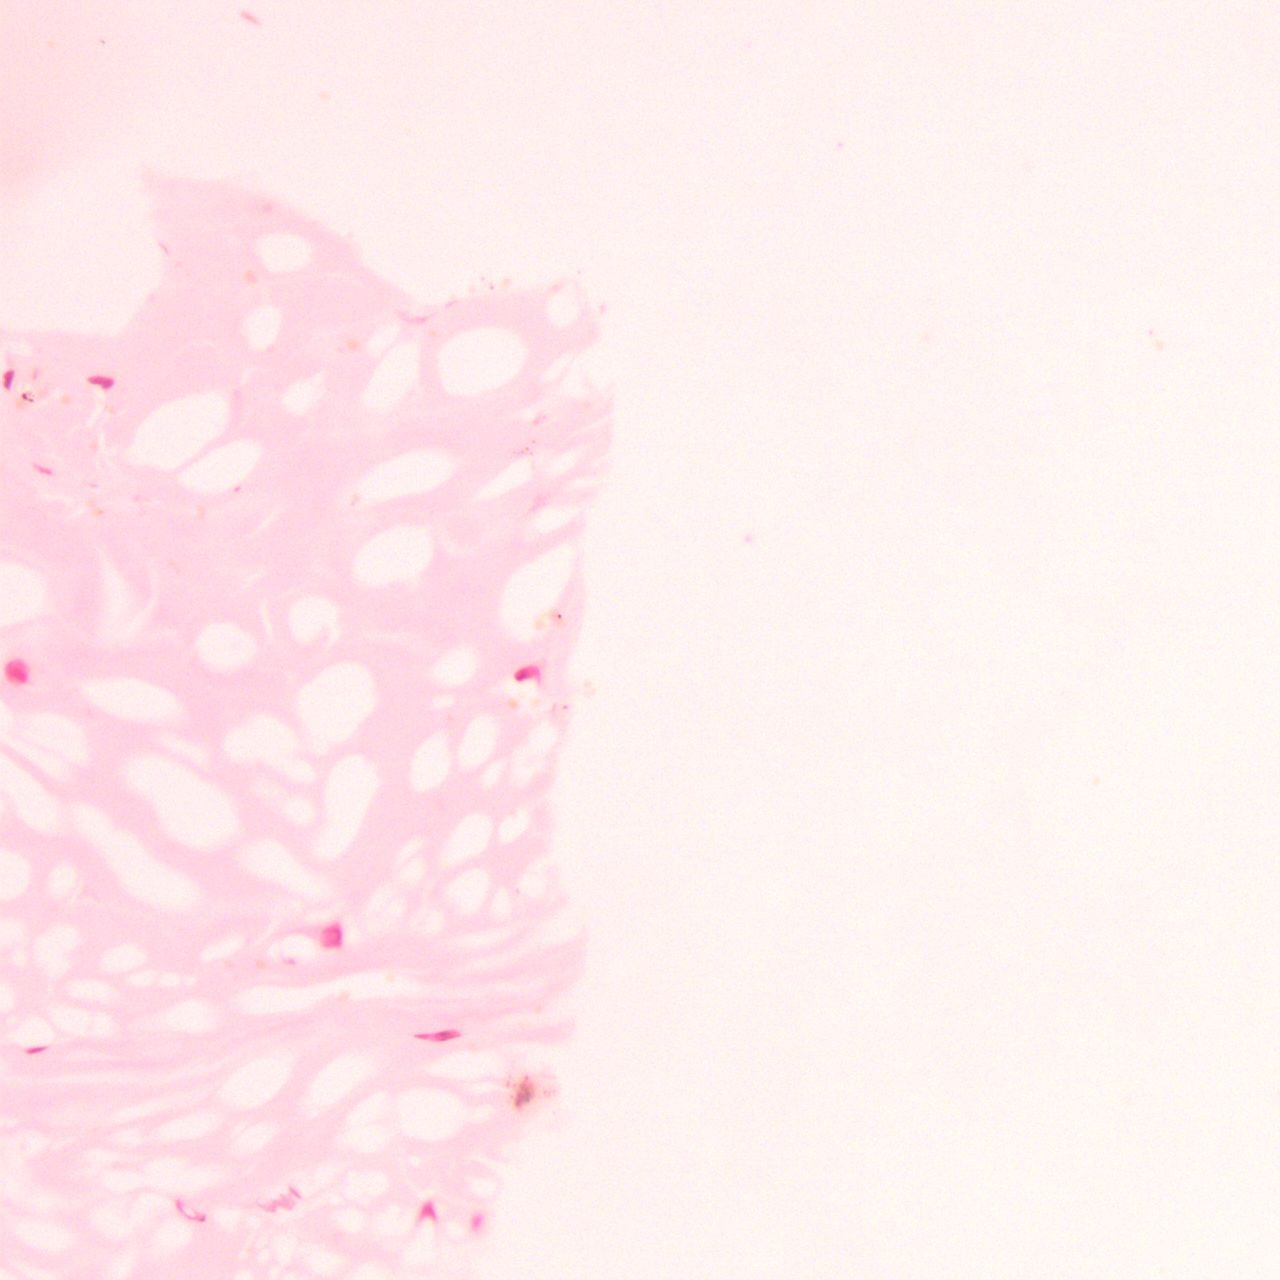nucleus-AC: (256, 1184, 301, 1214), (170, 1196, 207, 1227), (4, 658, 28, 686), (319, 921, 343, 948), (28, 457, 55, 481), (414, 1029, 461, 1042), (515, 663, 543, 685), (414, 1200, 438, 1223), (87, 374, 115, 392), (1, 367, 15, 390), (468, 1213, 484, 1232), (25, 1044, 47, 1055)
